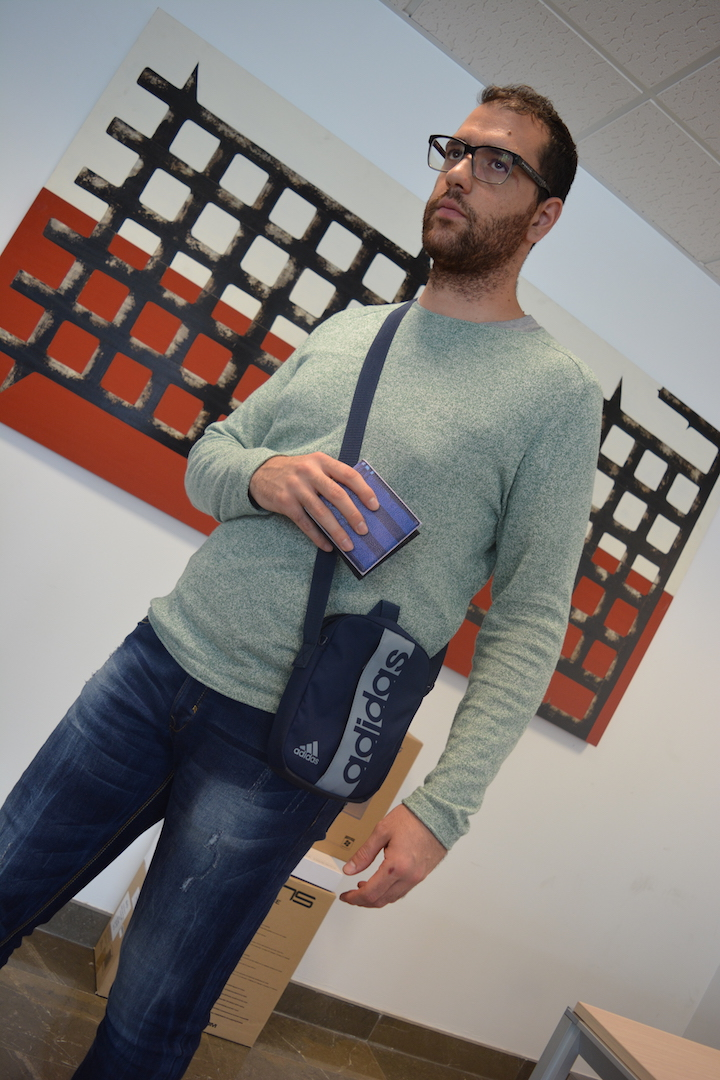monedero: (304, 459, 422, 580)
